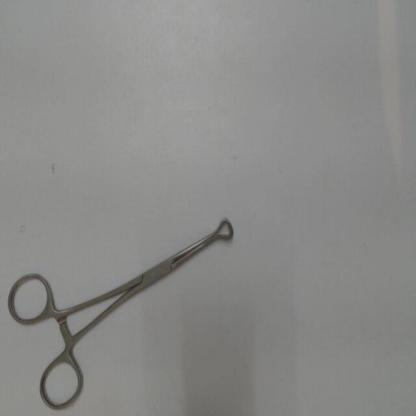Babcock Tissue Forceps: (5, 209, 238, 412)
